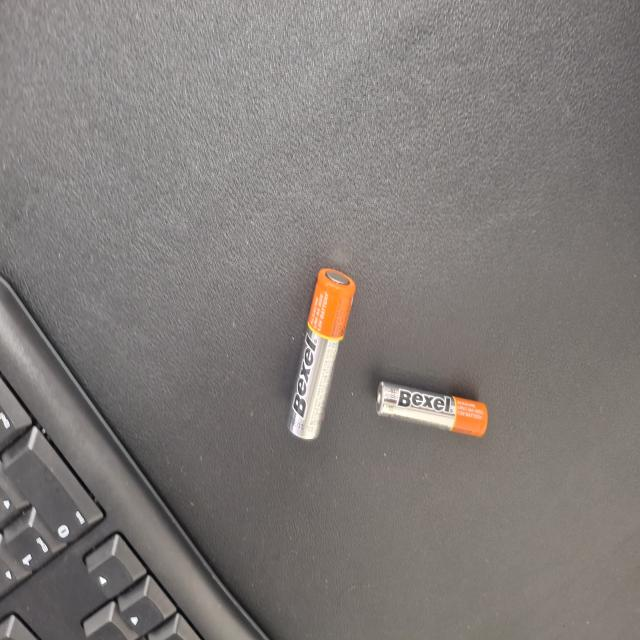AA: (201, 380, 330, 470)
AAA: (286, 203, 327, 351)
